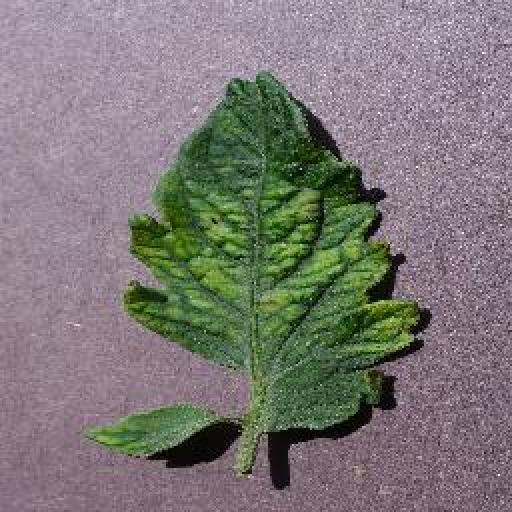Mosaic Virus: (116, 69, 419, 435)
